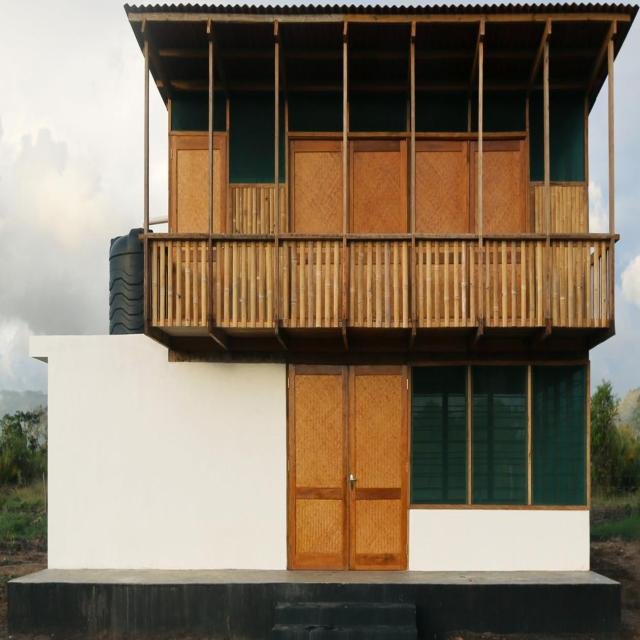Railing: (146, 233, 615, 329)
door: (287, 361, 409, 571)
plant: (590, 378, 640, 503), (0, 408, 48, 488)
wall: (8, 5, 639, 638)
windows: (413, 366, 589, 508)
